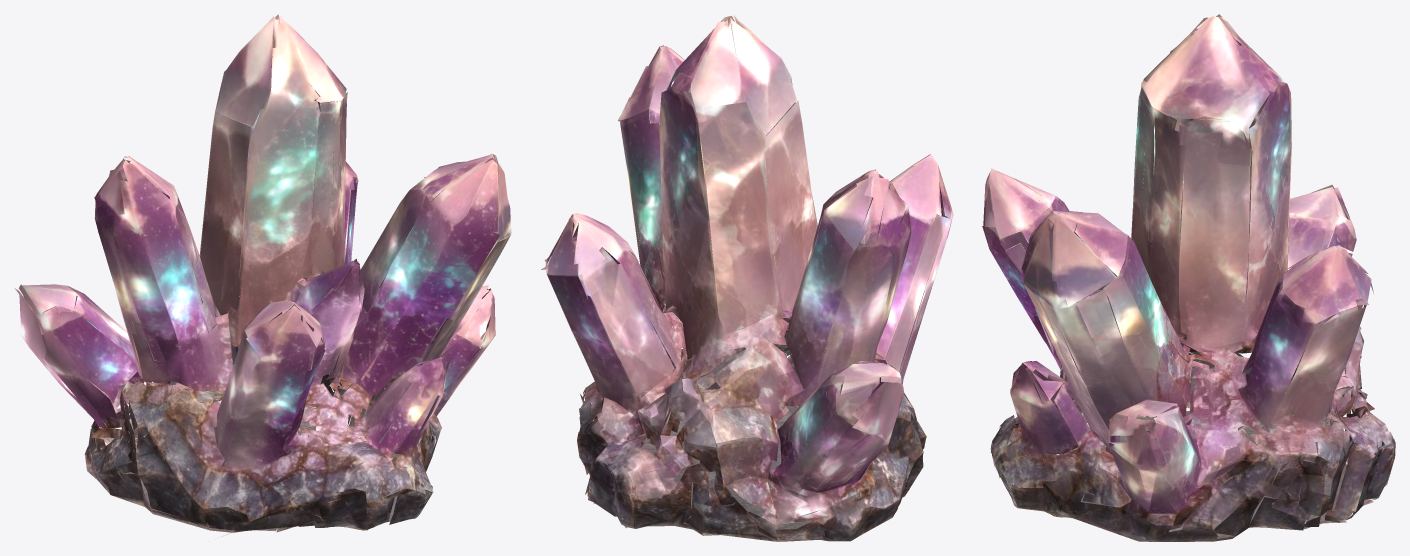
File: rose-crystals.glb
3 renders of one model, left to right at view 1: azimuth 30°, elevation 25°; view 2: azimuth 150°, elevation 25°; view 3: azimuth 270°, elevation 25°, orthographic. The views are drawn at different scales.
Parts seen in each view (by area): view 1: Rose Quartz Cluster; view 2: Rose Quartz Cluster; view 3: Rose Quartz Cluster.
Part boxes in pixels (x1,y1,x2,y2): Rose Quartz Cluster: (14, 14, 511, 534); Rose Quartz Cluster: (541, 15, 953, 541); Rose Quartz Cluster: (982, 14, 1395, 541).
Bounding box in the file's own units: 2.03 × 2.23 × 1.75.
Materials: 1 (1 with a texture image).
